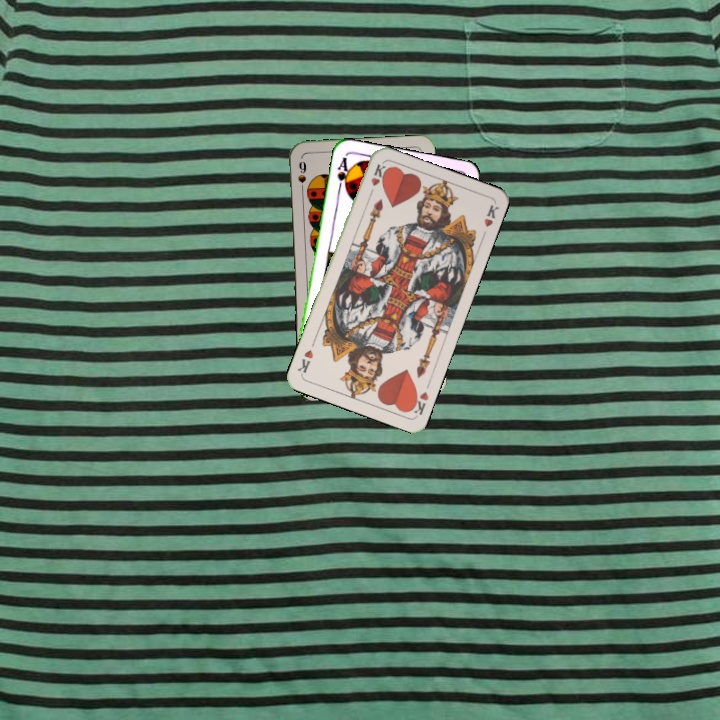HK: (365, 160, 388, 199), (405, 387, 431, 417)
S9: (294, 157, 309, 196)
SA: (333, 153, 353, 195)
